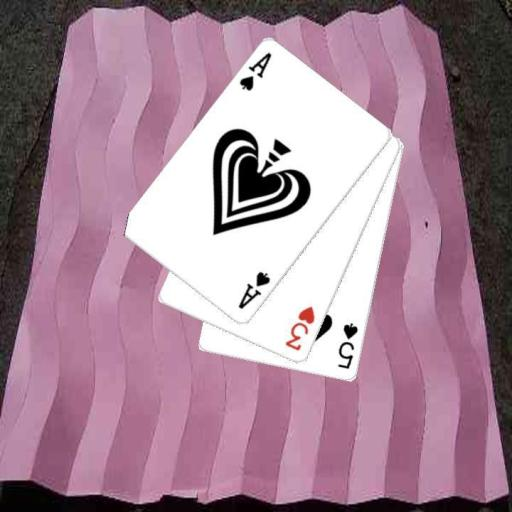card-corner: (282, 303, 316, 353), (236, 49, 274, 93), (235, 269, 272, 311), (335, 320, 360, 371)
